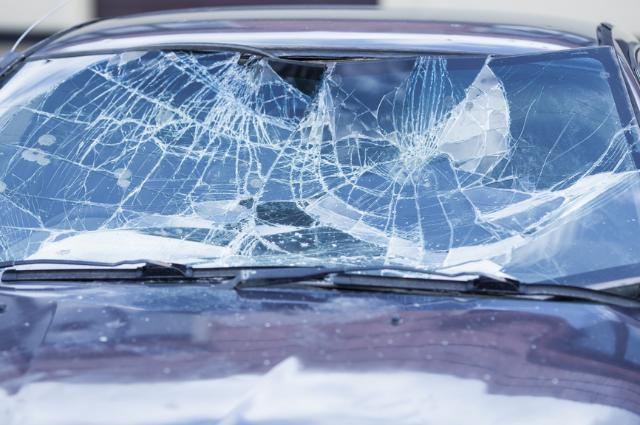Windshield: (0, 56, 640, 292)
